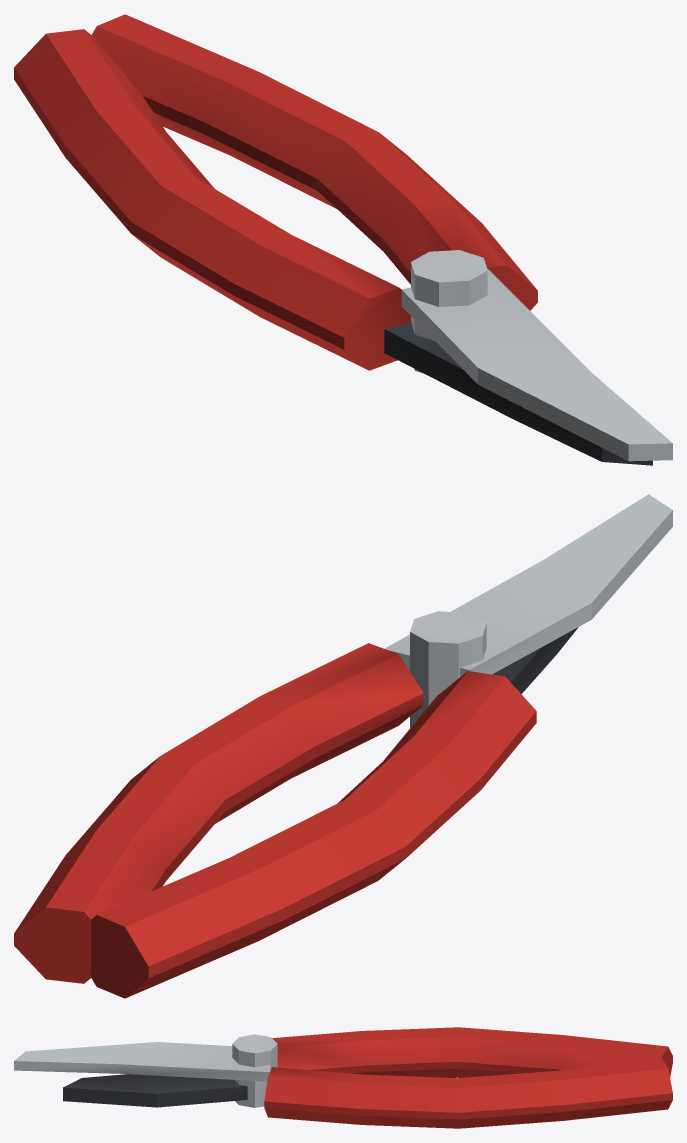
File: secateurs.glb
3 renders of one model, top to bottom at view 1: azimuth 30°, elevation 25°; view 2: azimuth 150°, elevation 25°; view 3: azimuth 270°, elevation 25°, orthographic. The views are drawn at different scales.
Visible parts, largest first — view 1: secateurs; view 2: secateurs; view 3: secateurs.
Part boxes in pixels (x1,y1,x2,y2): secateurs: (14,14,672,465); secateurs: (14,494,672,998); secateurs: (14,1027,672,1128).
Bounding box in the file's own units: 0.048 × 0.016 × 0.175.
